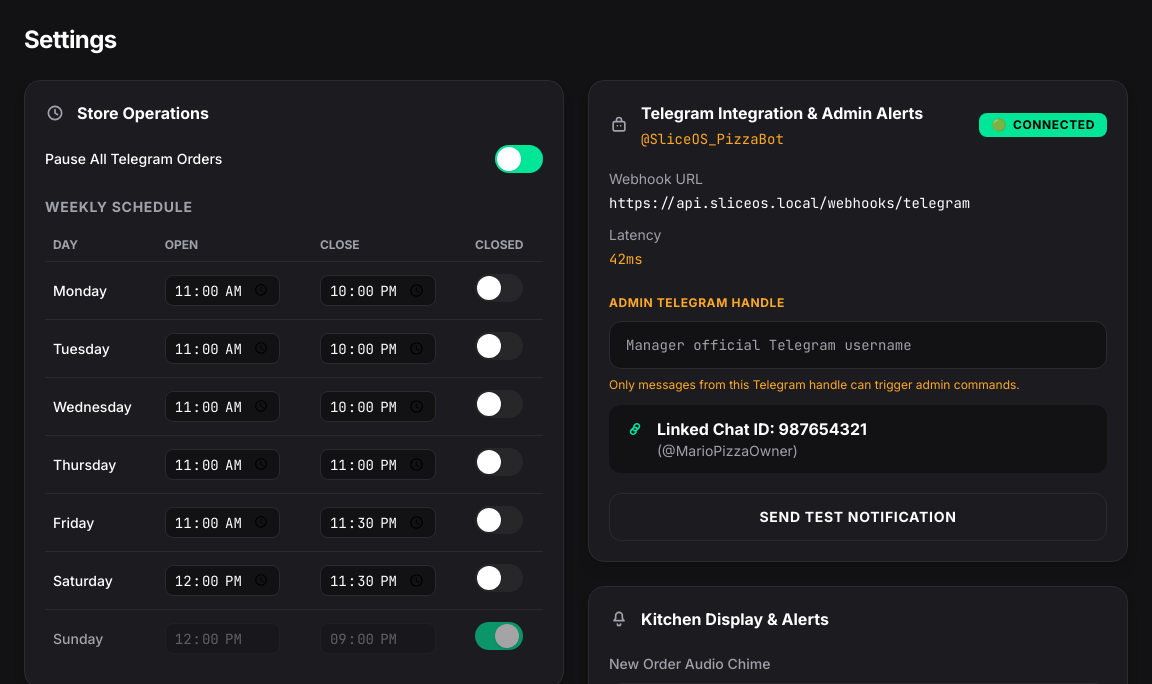
Test: SettingsView › disables schedule time inputs when a day is marked closed
The width and height of the screenshot is (1152, 684).
Expected: the row with test id "schedule-row-sunday" is shown, [45,610,543,667]
Expected: the time field with test id "schedule-open-sunday" is disabled, [165,623,280,654]
Click the switch named "monday closed" at (499, 288), box [475,274,523,302]
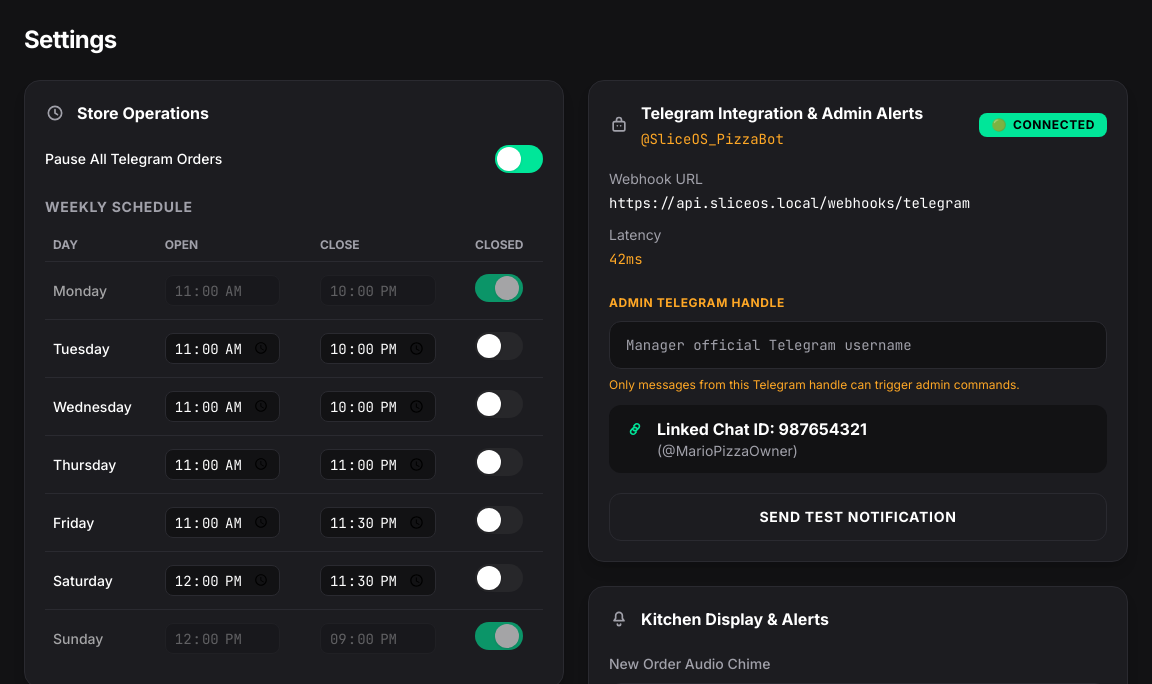
Expected: the time field with test id "schedule-open-monday" is disabled, [165,275,280,306]
